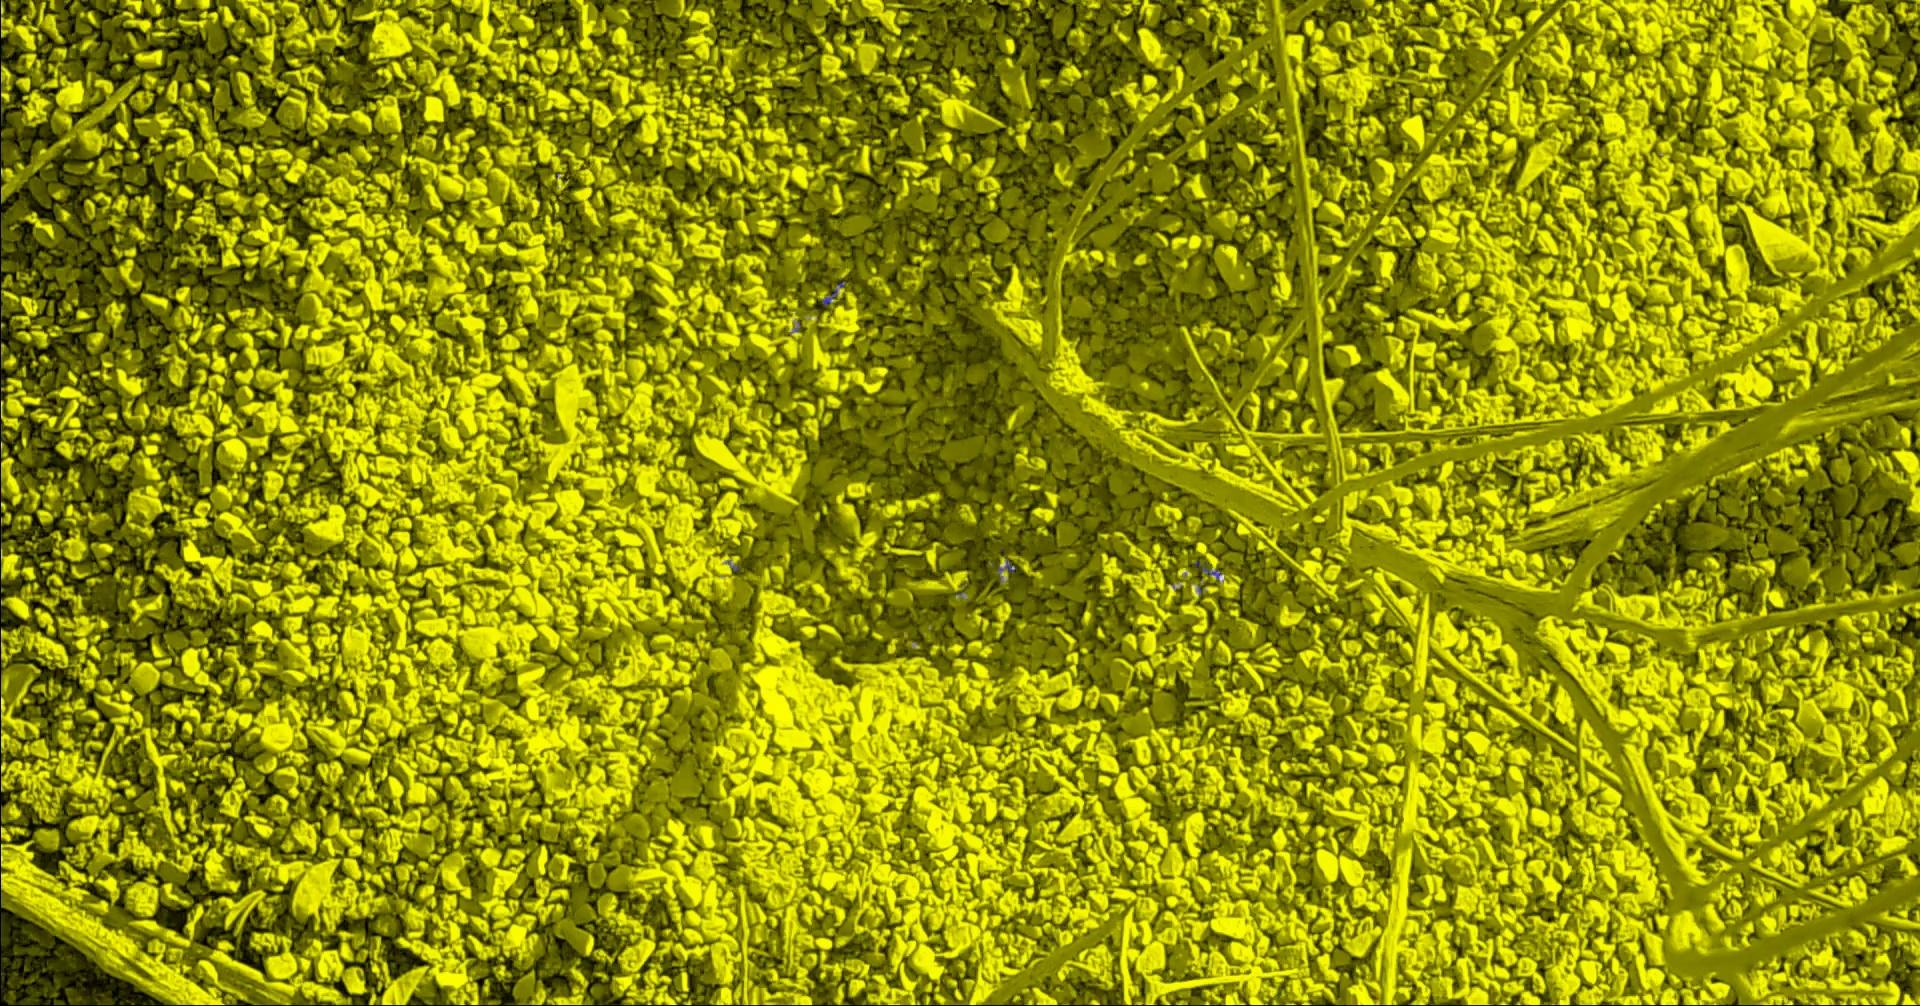ant: (1194, 561, 1220, 579), (820, 288, 837, 305)
